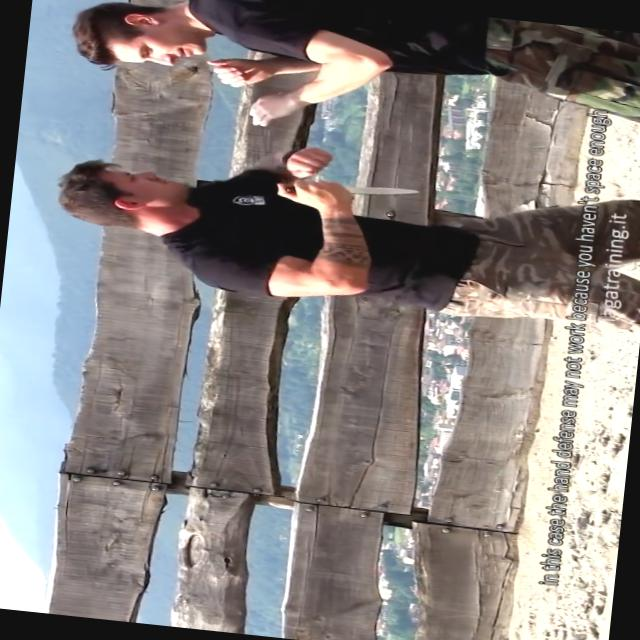knife: (289, 172, 422, 216)
